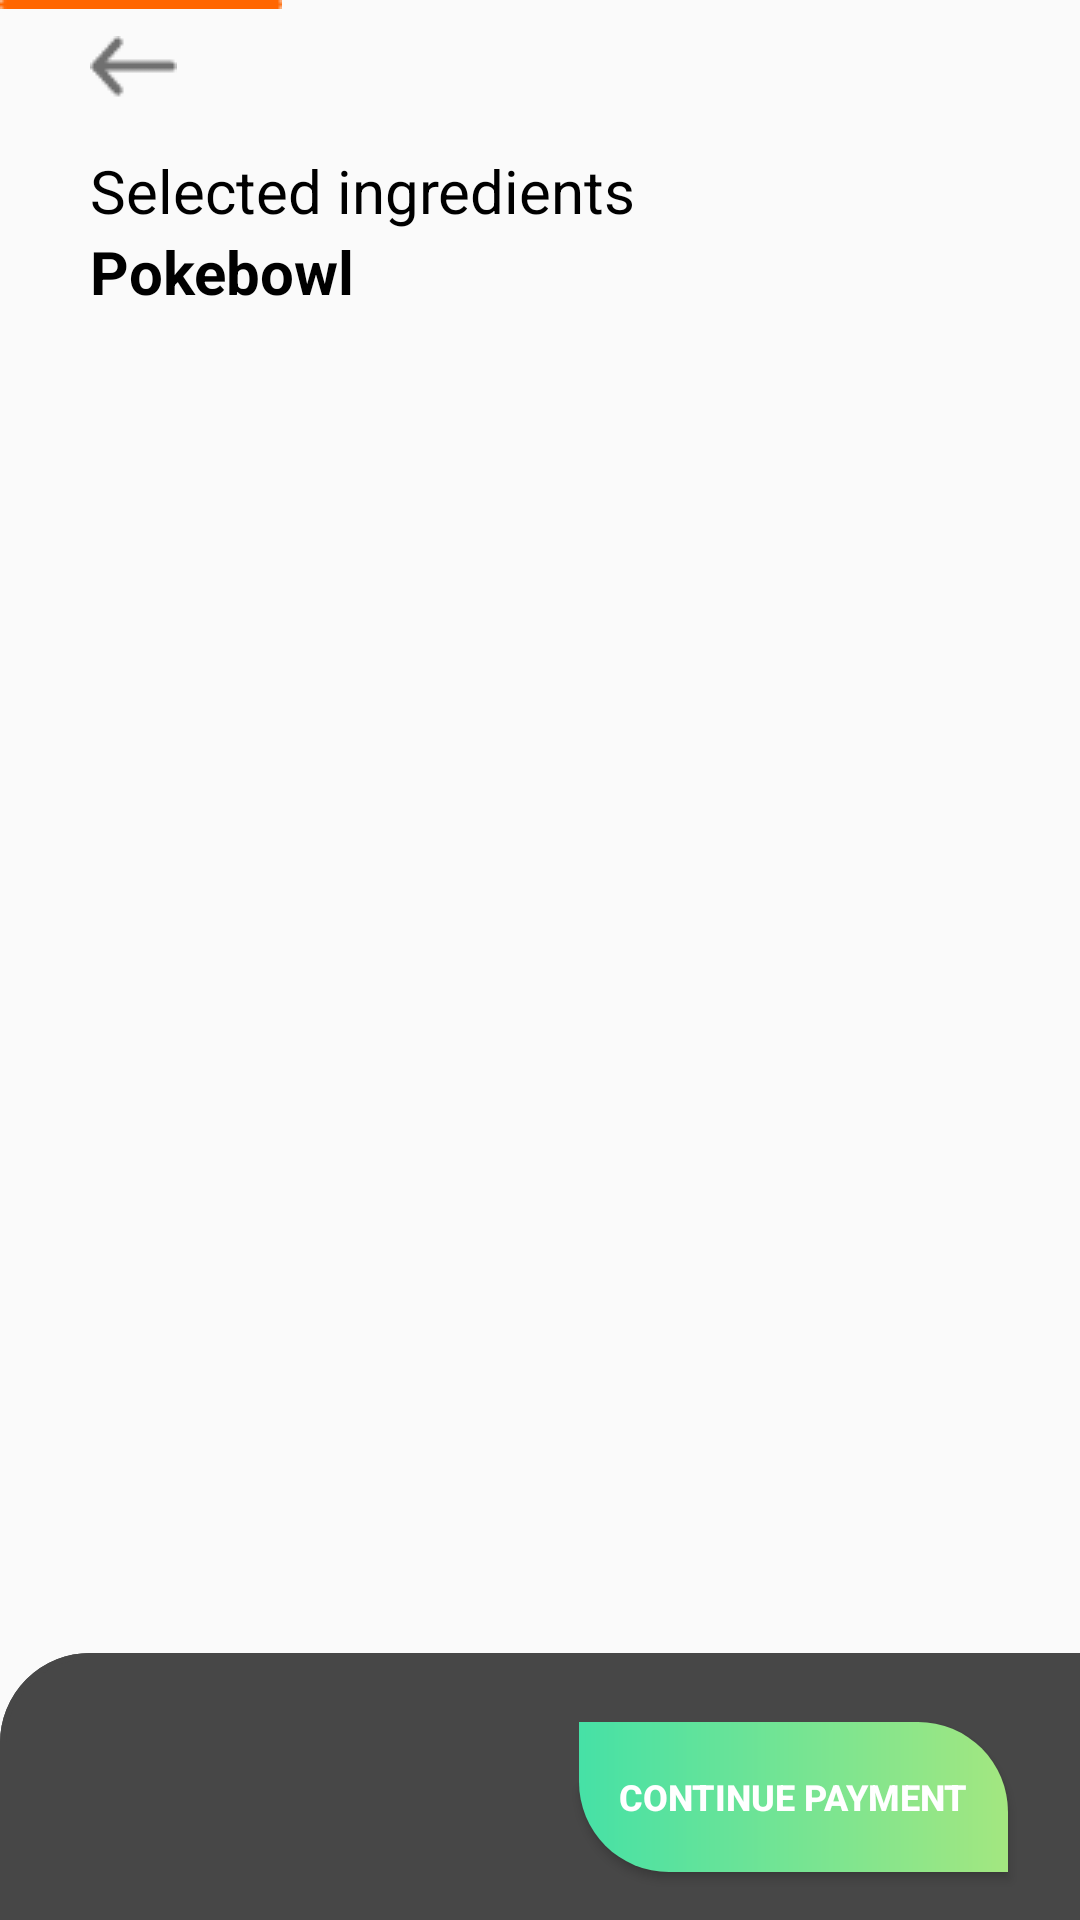

Locate icon controls on the screen. Image size 1080x1920, boxes as (x1, y1, x2, y2).
Arrow: (90, 36, 177, 97)
